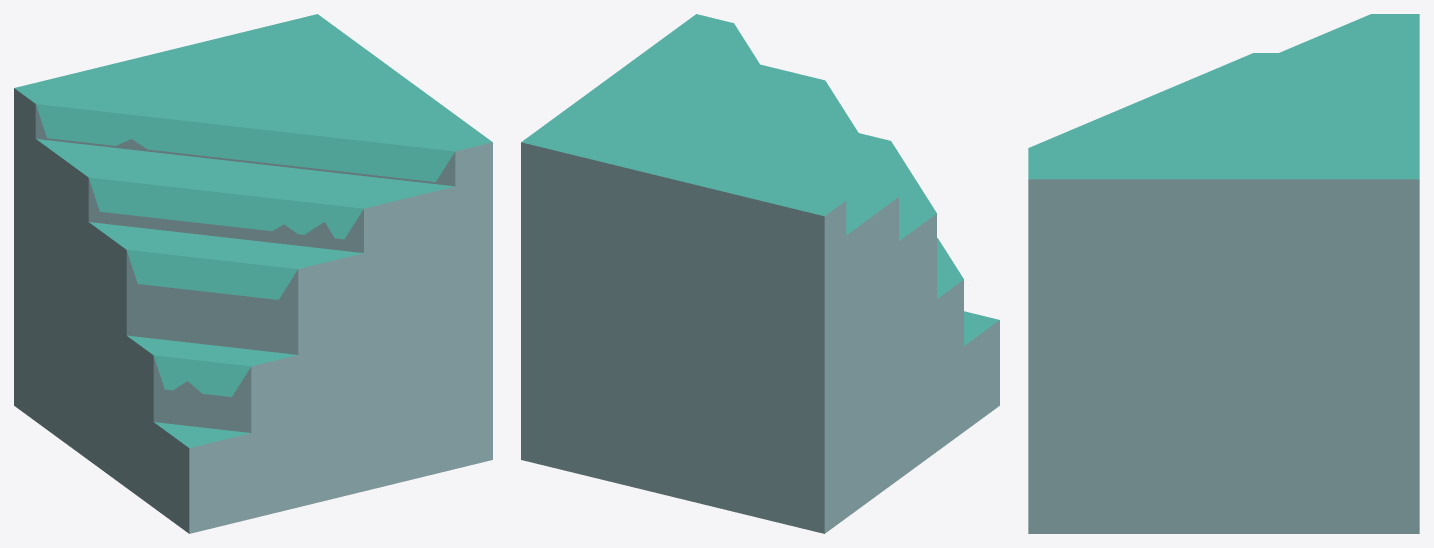
The model's file is cliffGrey_stepsCornerInner.fbx.
3 renders of one model, left to right at view 1: azimuth 30°, elevation 25°; view 2: azimuth 150°, elevation 25°; view 3: azimuth 270°, elevation 25°, orthographic. The views are drawn at different scales.
Parts seen in each view (by area): view 1: cliffGrey_stepsCornerInner; view 2: cliffGrey_stepsCornerInner; view 3: cliffGrey_stepsCornerInner.
Part boxes in pixels (x1,y1,x2,y2): cliffGrey_stepsCornerInner: [14, 14, 492, 533]; cliffGrey_stepsCornerInner: [521, 14, 999, 533]; cliffGrey_stepsCornerInner: [1028, 14, 1419, 533].
Size of the model in its own units: 10 by 10 by 10.
